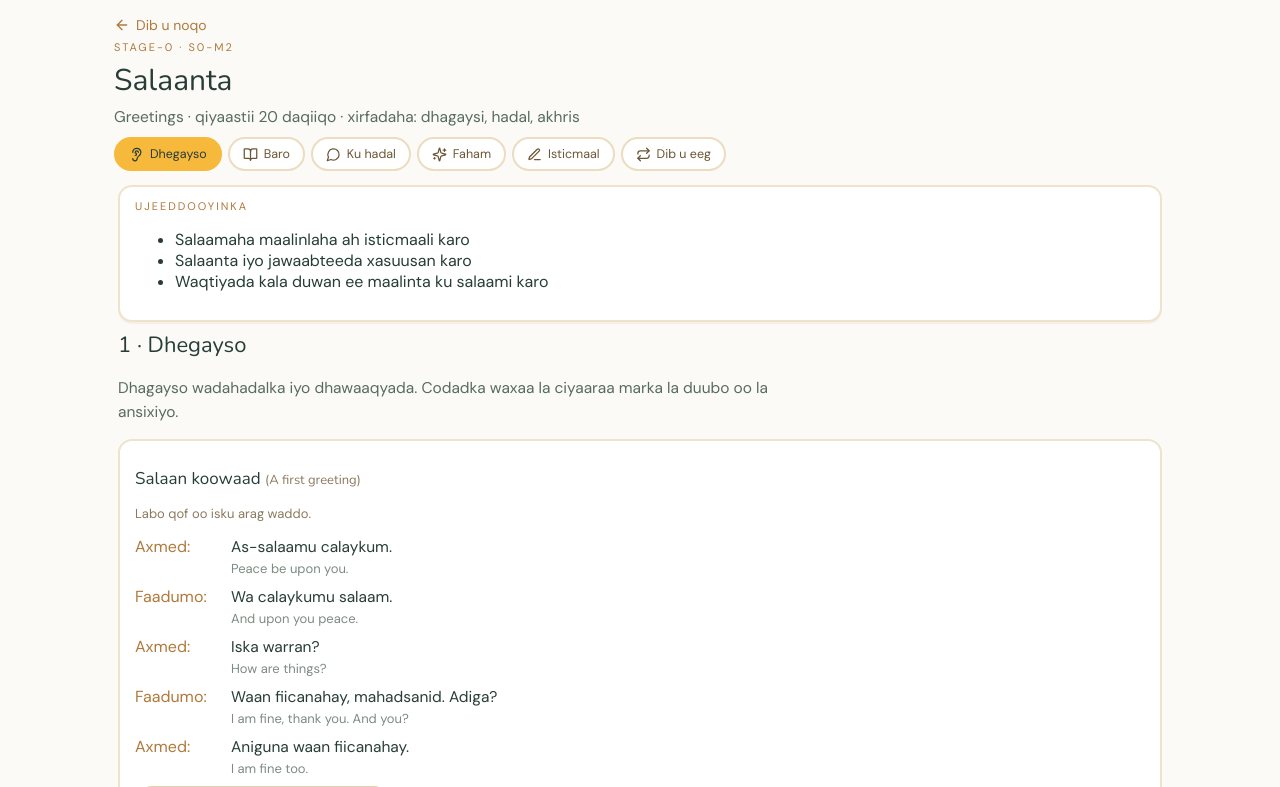
Scenario: lesson and stage views › LessonView shows the learning cycle steps and lesson content
Expected: the heading "Salaanta" is shown, x1=114 y1=60 x2=232 y2=101
Expected: the button "Dhegayso" is shown, x1=114 y1=137 x2=222 y2=171
Click the button "Baro".
click(266, 154)  # box x1=228 y1=137 x2=305 y2=171
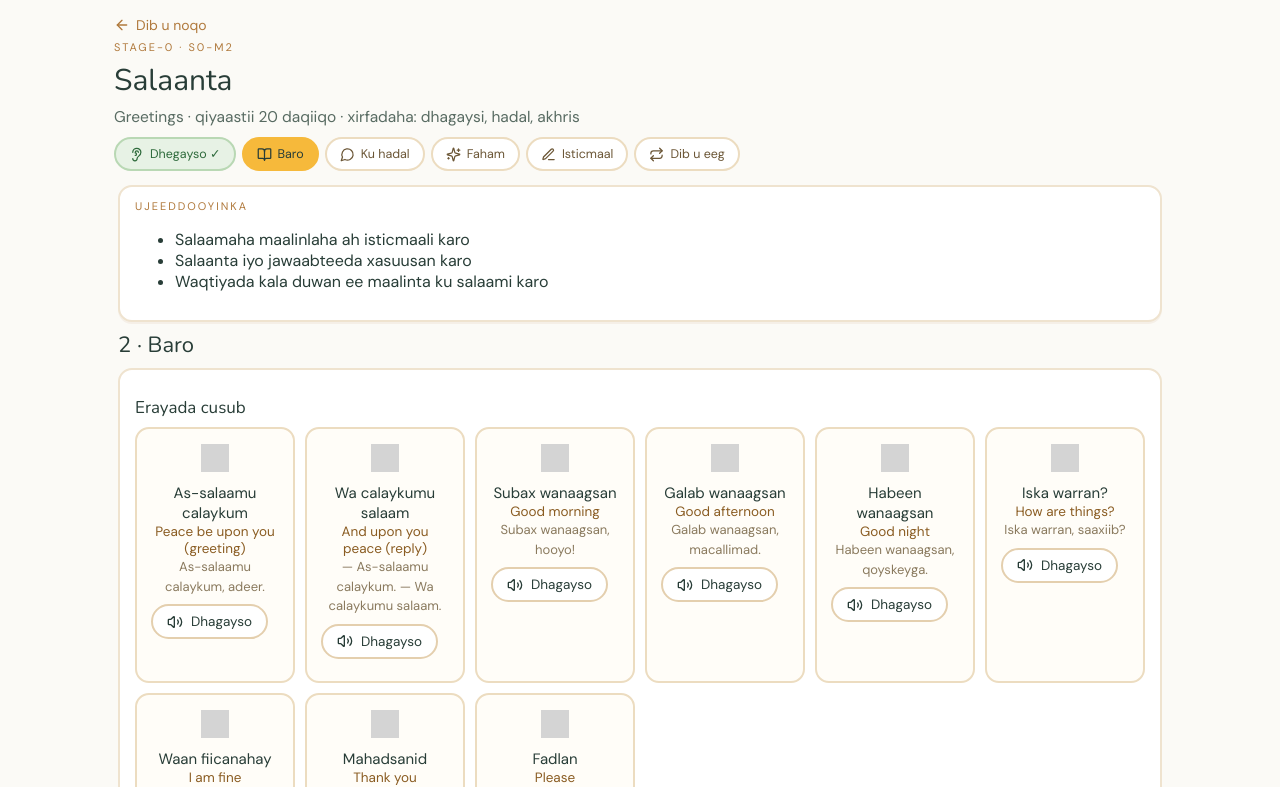
Expected: the heading "Erayada cusub" is shown, x1=135 y1=396 x2=246 y2=419
